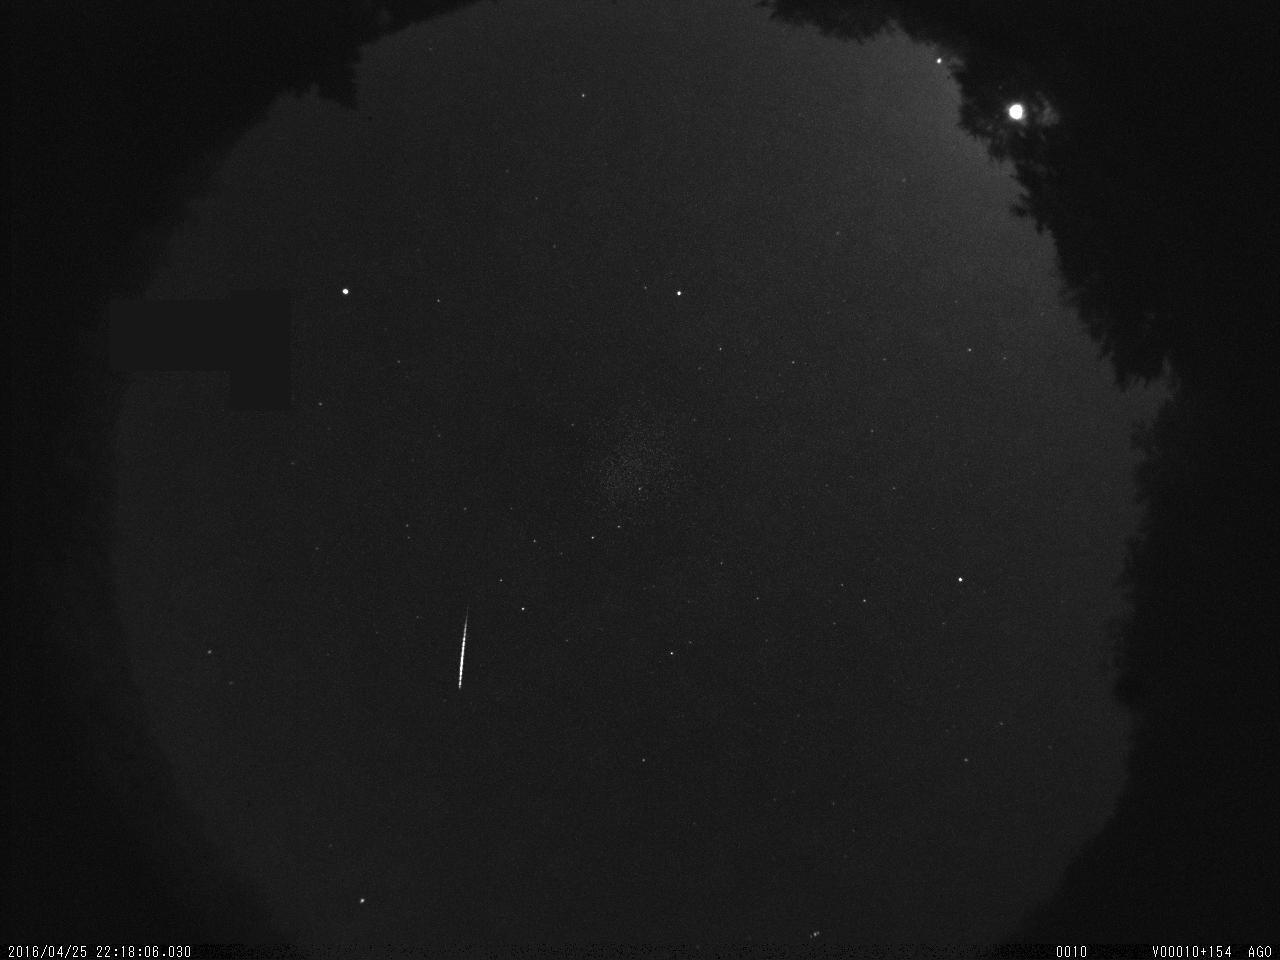meteor: (427, 592, 491, 703)
